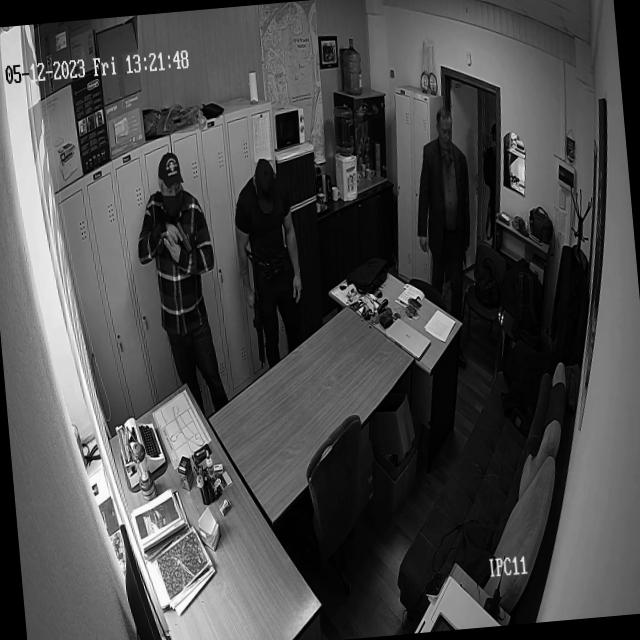gun: (246, 247, 272, 381), (172, 213, 198, 270)
person: (418, 107, 479, 300)
person with a gun: (130, 140, 235, 422), (228, 145, 312, 365)
